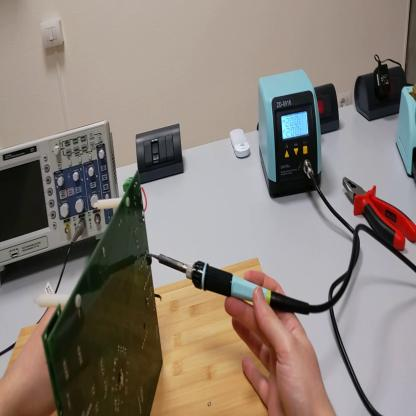hand: (227, 272, 326, 416), (2, 303, 60, 415)
low voltage board: (36, 173, 165, 416)
oscilloscope: (2, 119, 121, 270)
pliers: (344, 178, 415, 251)
socket: (355, 62, 408, 123), (315, 86, 341, 136)
welder base: (395, 85, 415, 175)
welder probe tip: (151, 253, 311, 317)
welder station: (258, 69, 324, 200)
working area: (2, 255, 263, 412)
